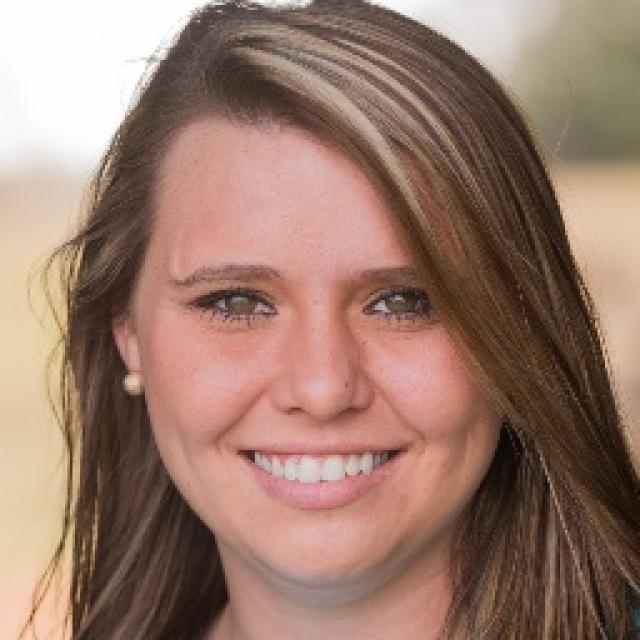earlobe: (120, 347, 144, 392)
eye: (197, 284, 279, 326), (364, 286, 442, 326)
nose: (262, 405, 375, 437)
wholeear: (105, 268, 144, 392)
